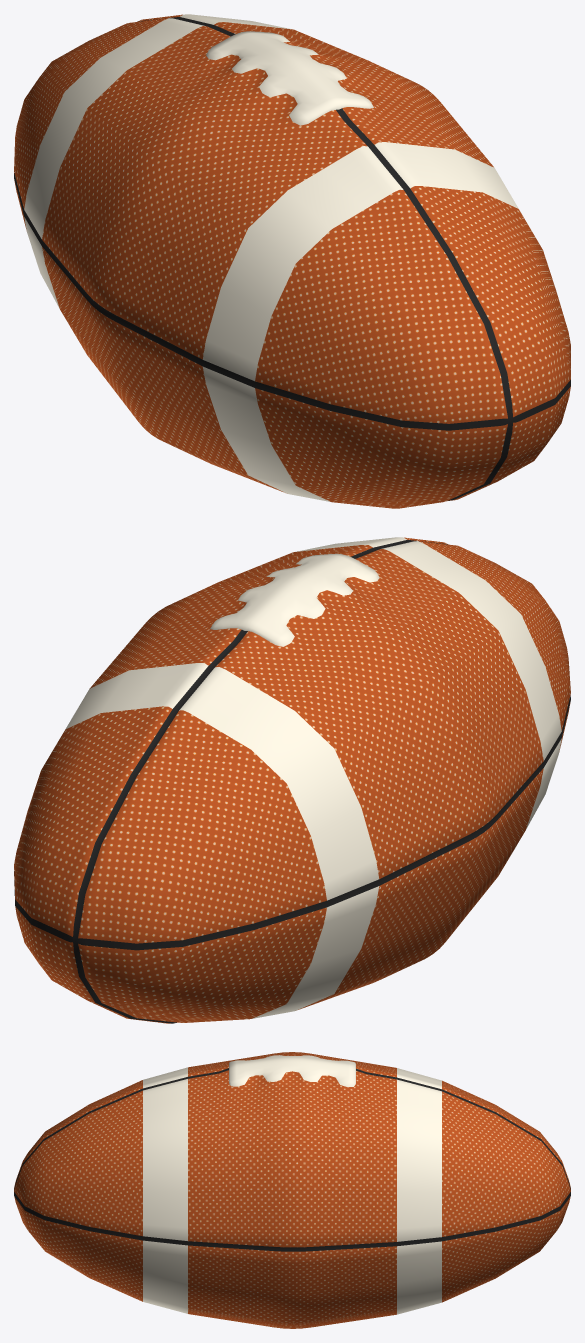
Rendered from Toy football.FBX.
The picture shows the model from 3 angles, top to bottom: view 1: azimuth 30°, elevation 25°; view 2: azimuth 150°, elevation 25°; view 3: azimuth 270°, elevation 25°; orthographic projection. The views are drawn at different scales.
Visible parts, largest first — view 1: Box001; view 2: Box001; view 3: Box001.
Boxes of the visible parts, x1=… form: Box001: x1=14, y1=14, x2=570, y2=508; Box001: x1=14, y1=537, x2=570, y2=1023; Box001: x1=14, y1=1052, x2=570, y2=1328.
Bounding box in the file's own units: 37.93 × 38.76 × 75.45.
Materials: 1 (1 with a texture image).
